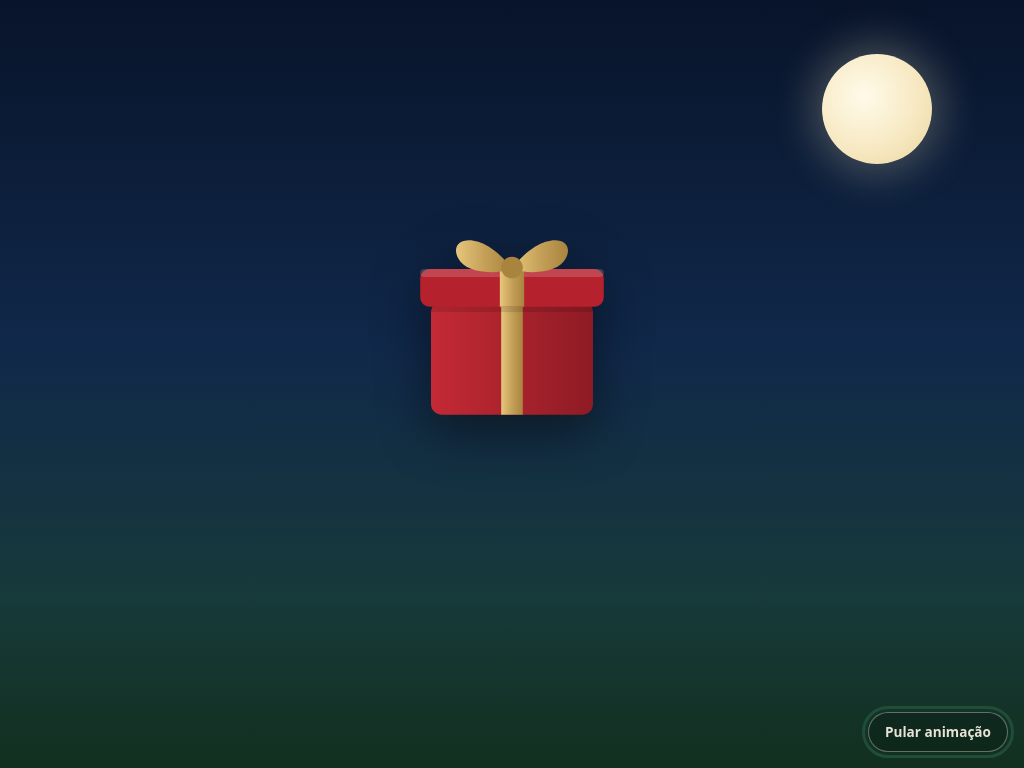
Test case: ChristmasCelebration › pode ser encerrada imediatamente
Click the button "Pular animação". click: (938, 732)
box: [868,712,1008,752]
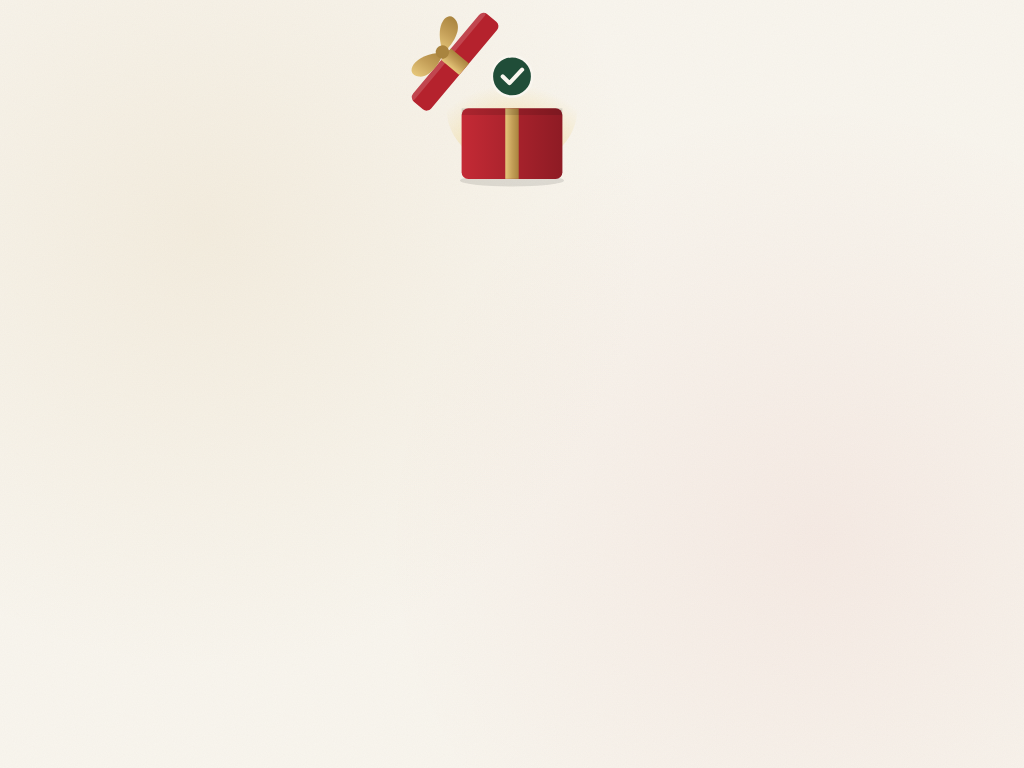
Check: the element with test id "celebration" has attribute data-stage="done", box [428,26,596,194]
